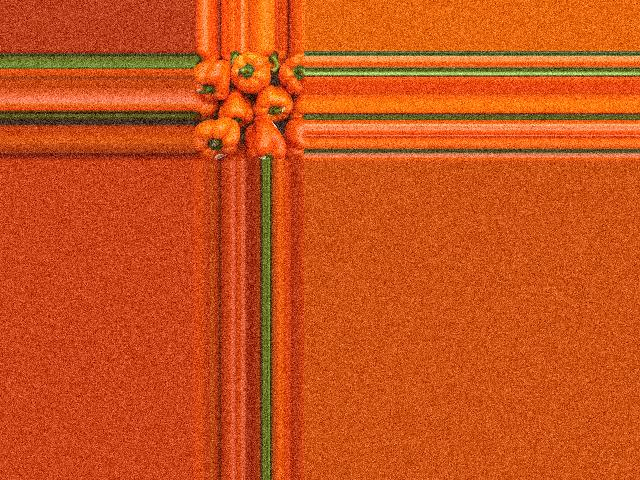bell_pepper: (285, 117, 303, 162)
